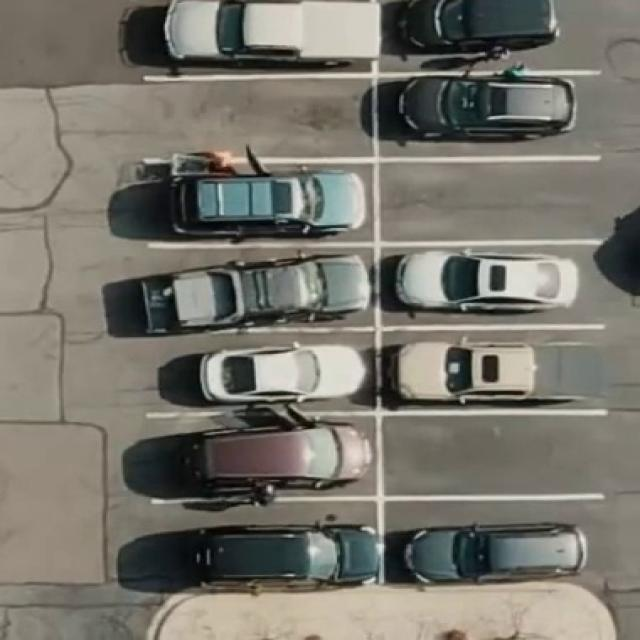empty: (139, 75, 373, 157), (383, 414, 609, 494), (378, 163, 610, 238)
notEmpty: (148, 329, 378, 413), (152, 414, 378, 498), (383, 243, 608, 326), (150, 503, 379, 584), (383, 497, 608, 579), (383, 330, 611, 410), (148, 244, 370, 326), (378, 76, 604, 156), (143, 164, 371, 241), (132, 0, 370, 72), (378, 0, 602, 72)
